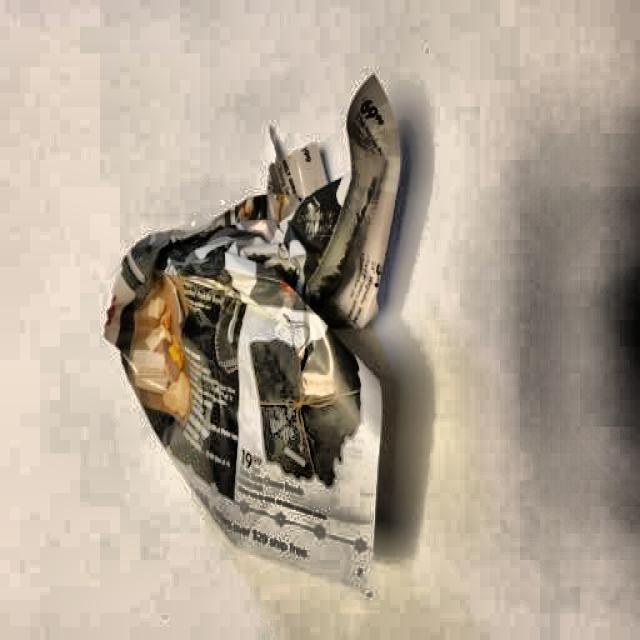paper: (111, 102, 406, 560)
